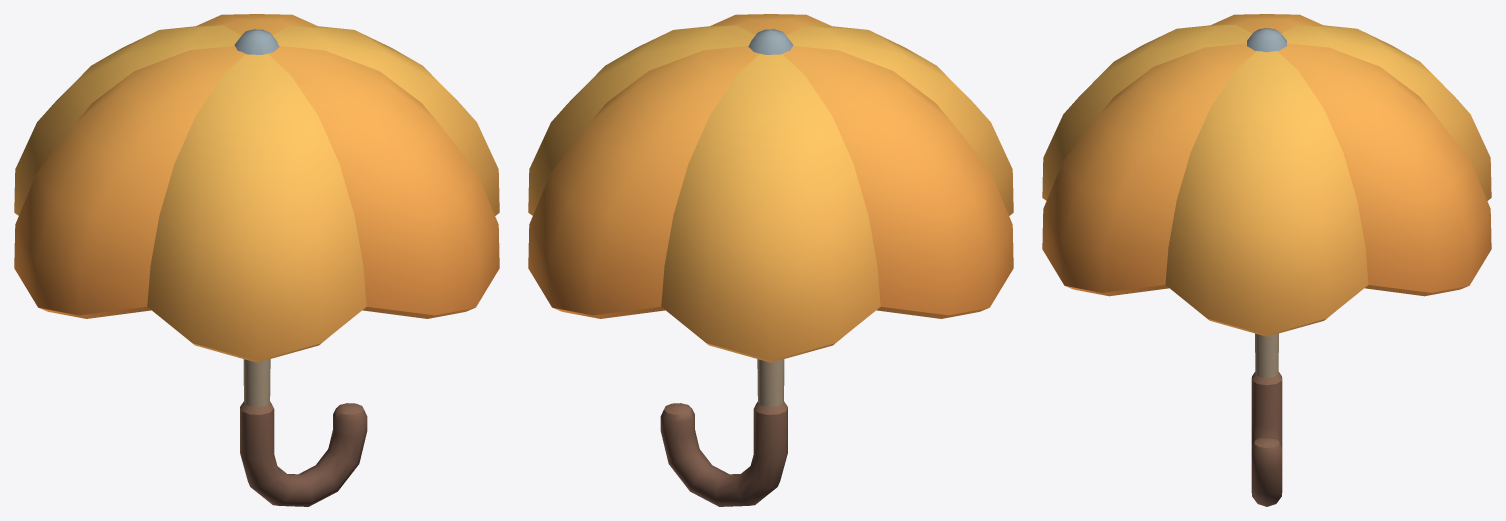
Rendered from umbrella_yellow.glb.
3 renders of one model, left to right at view 1: azimuth 30°, elevation 25°; view 2: azimuth 150°, elevation 25°; view 3: azimuth 270°, elevation 25°, orthographic. The views are drawn at different scales.
Visible parts, largest first — view 1: umbrella_yellow; view 2: umbrella_yellow; view 3: umbrella_yellow.
Boxes of the visible parts, x1,y1,x2,y2 form: umbrella_yellow: [14, 14, 499, 506]; umbrella_yellow: [528, 14, 1013, 506]; umbrella_yellow: [1042, 14, 1491, 506].
Size of the model in its own units: 1.77 by 1.86 by 1.68.
Materials: 1 (1 with a texture image).
